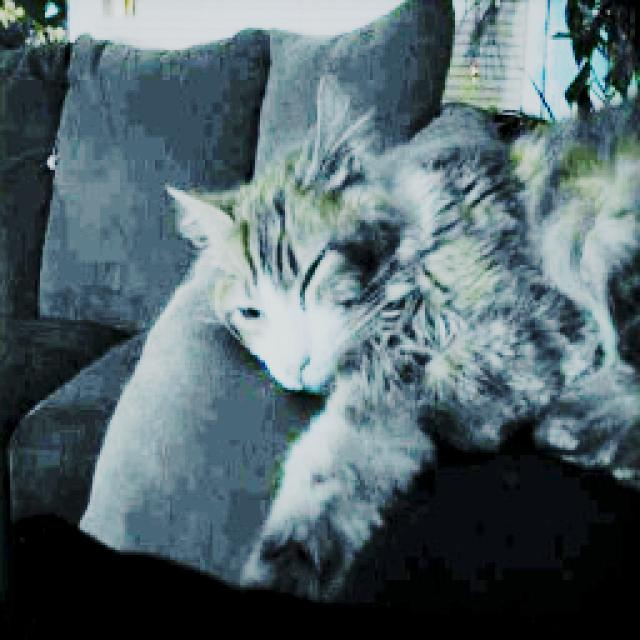cat: (169, 80, 640, 529)
